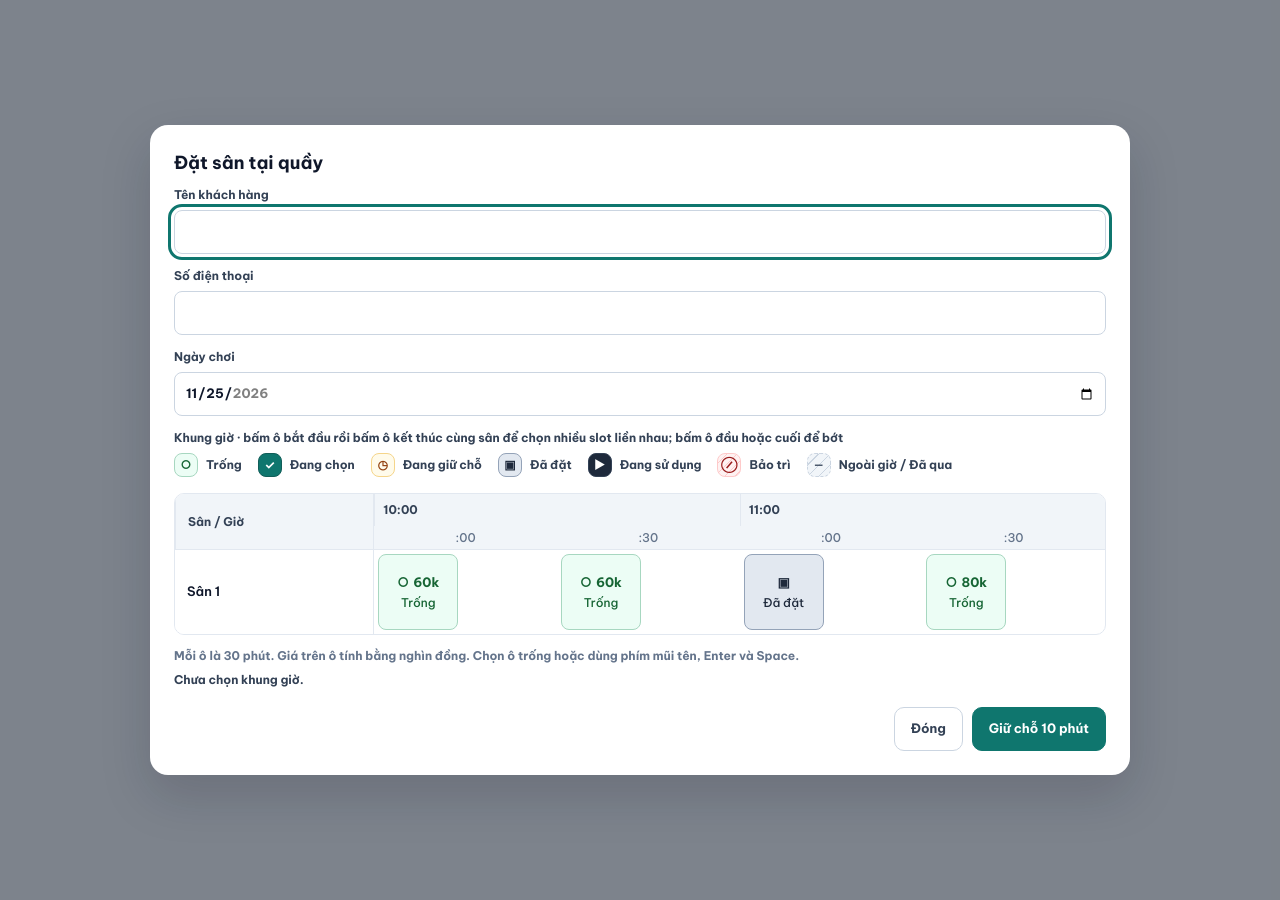
it: giữ chỗ › số điện thoại sai định dạng thì không gửi
Expected: the table named "Lịch sân theo khung 30 phút" is shown, [175,494,1105,634]
Type "Nguyễn An" into the field labelled "Tên khách hàng".
click(640, 232); type("Nguyễn An")  # box [174,210,1106,254]
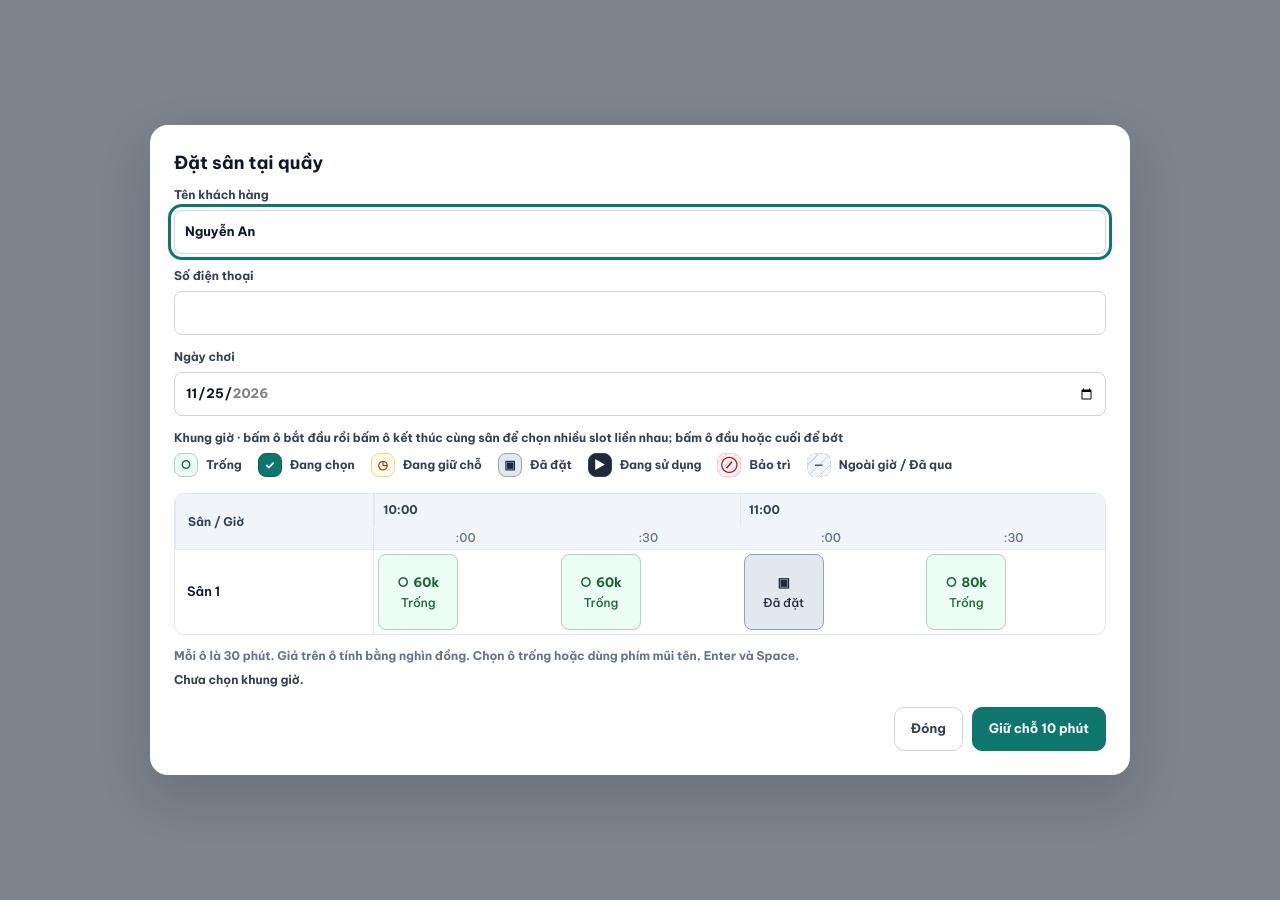
Type "912345678" into the field labelled "Số điện thoại".
click(640, 313); type("912345678")  # box [174,291,1106,335]
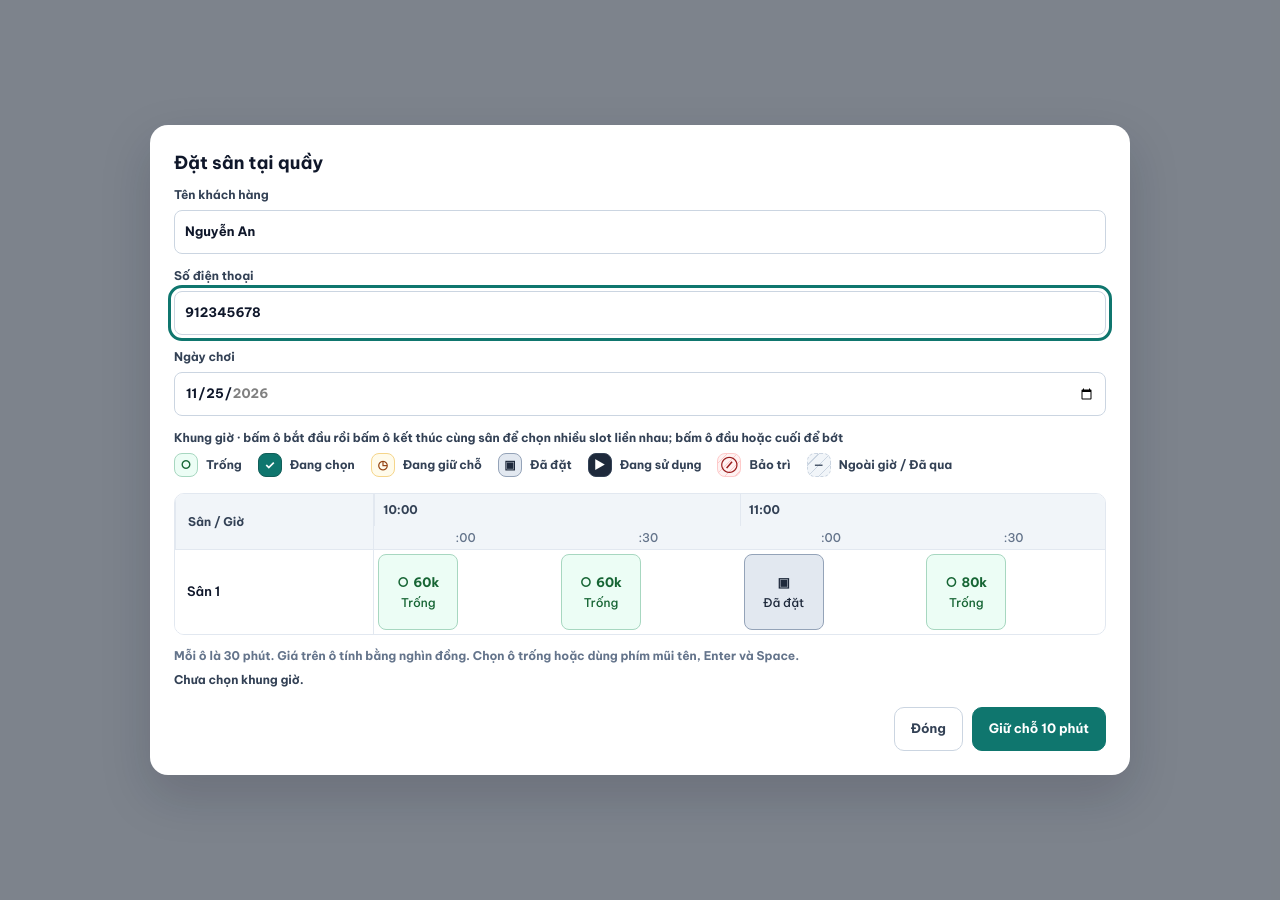
Click the 1st button "○ 60k Trống".
click(418, 592)  # box [378,554,458,630]
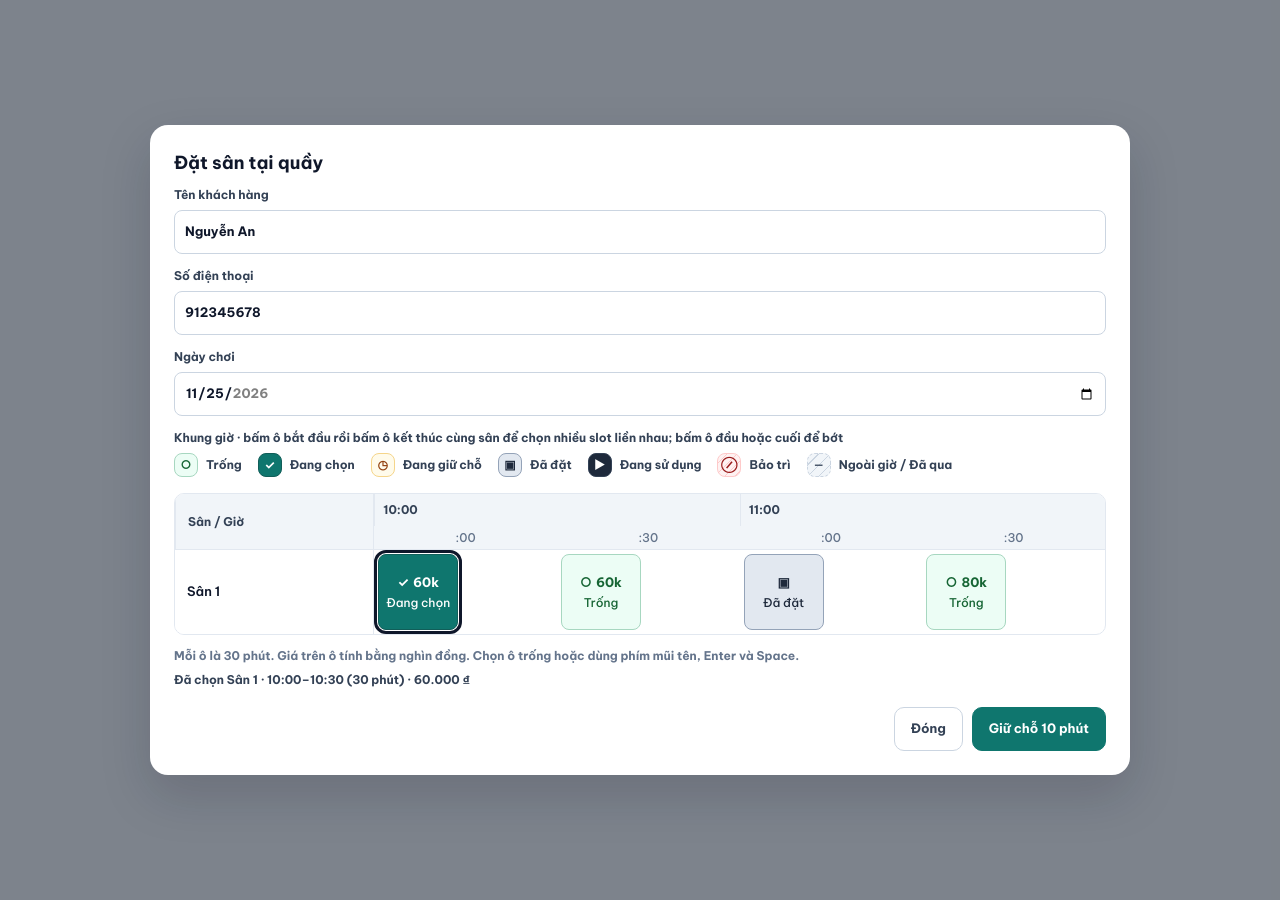
Click the button "Giữ chỗ 10 phút".
click(1039, 729)  # box [972,707,1106,751]
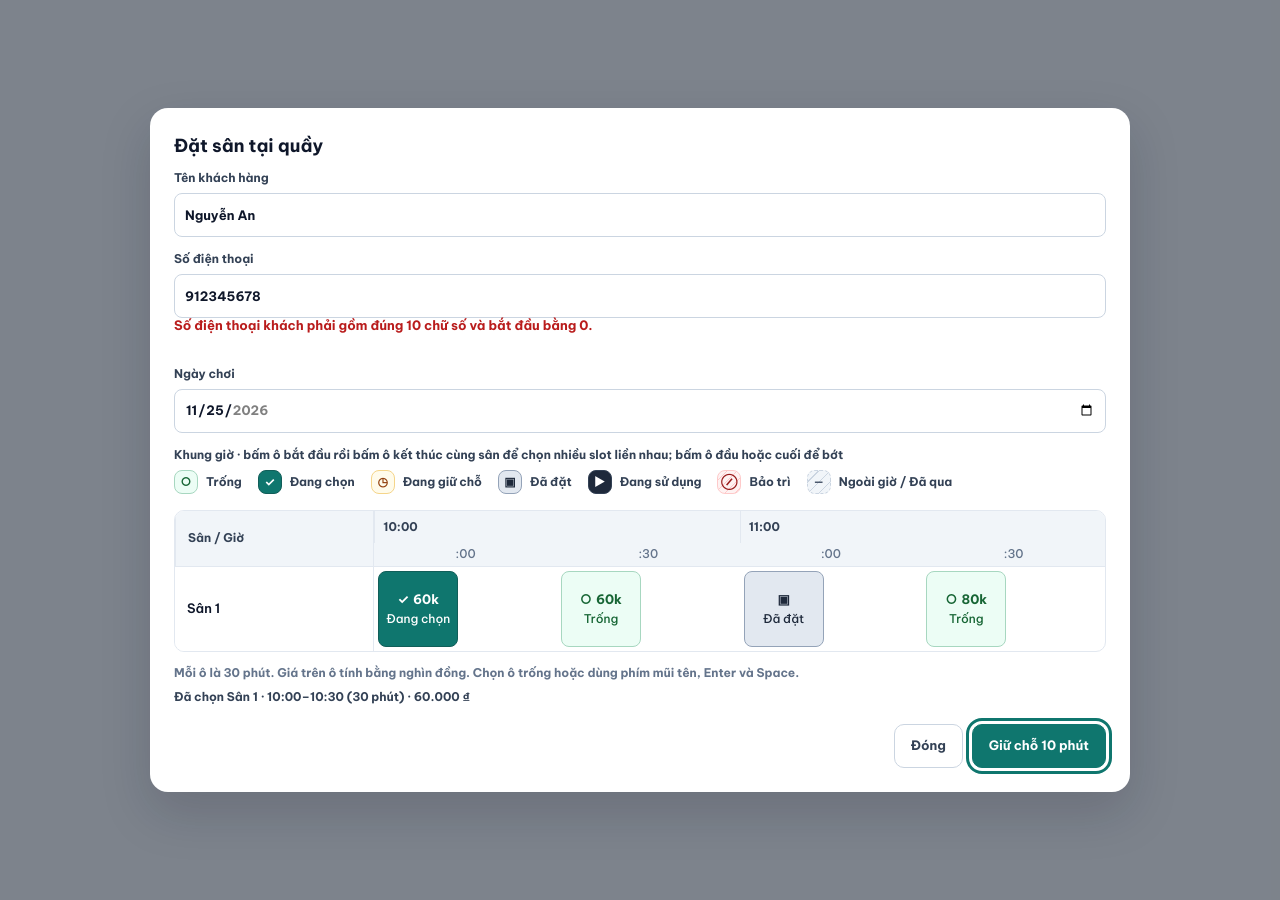
Expected: the text "Số điện thoại khách phải gồm đúng 10 chữ số và bắt đầu bằng 0." is shown, [174,317,593,333]
